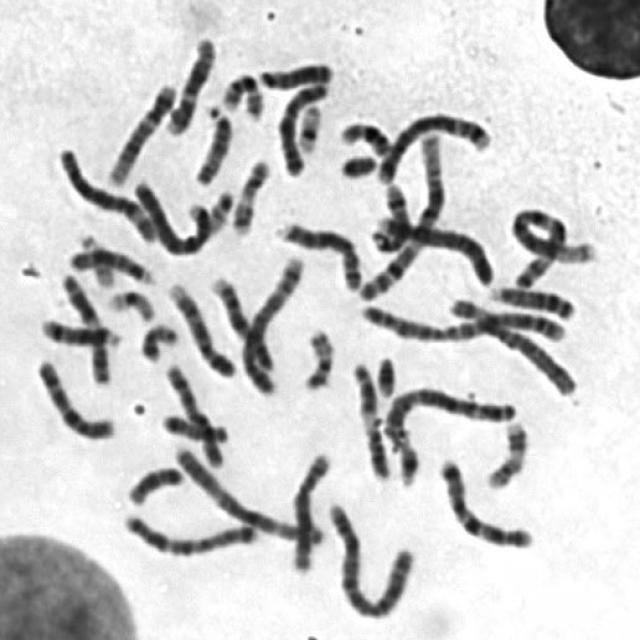A1: (351, 119, 450, 305), (504, 196, 600, 290)
A2: (320, 492, 418, 622), (354, 293, 570, 344)
A3: (166, 436, 326, 550), (376, 377, 520, 450)
B4: (366, 204, 497, 286), (125, 170, 216, 258)
B5: (234, 247, 306, 398), (368, 102, 496, 186)
C10: (28, 348, 120, 442), (156, 355, 228, 469)
C11: (52, 264, 114, 386), (344, 351, 394, 482)
C12: (101, 72, 181, 187), (158, 26, 220, 138)
C6: (443, 288, 580, 398), (50, 136, 160, 245)
C7: (431, 448, 538, 551), (115, 504, 262, 558)
C8: (270, 212, 365, 292), (284, 443, 336, 574)
C9: (160, 273, 237, 380), (203, 268, 278, 375)
D13: (482, 277, 578, 322), (252, 51, 336, 91)
D14: (366, 174, 414, 254), (34, 309, 126, 349)
D15: (61, 239, 156, 285), (187, 100, 236, 186)
E16: (332, 110, 396, 159), (214, 63, 266, 121)
E17: (225, 150, 274, 238), (479, 412, 532, 492)
E18: (119, 456, 186, 507), (155, 404, 233, 446)
F19: (100, 280, 158, 323), (289, 90, 326, 156)
F20: (296, 318, 338, 393), (134, 314, 181, 363)
G21: (391, 432, 423, 489), (368, 346, 399, 398)
G22: (73, 225, 118, 289), (201, 180, 237, 233)
X: (269, 72, 331, 179)
Y: (332, 145, 380, 180)
